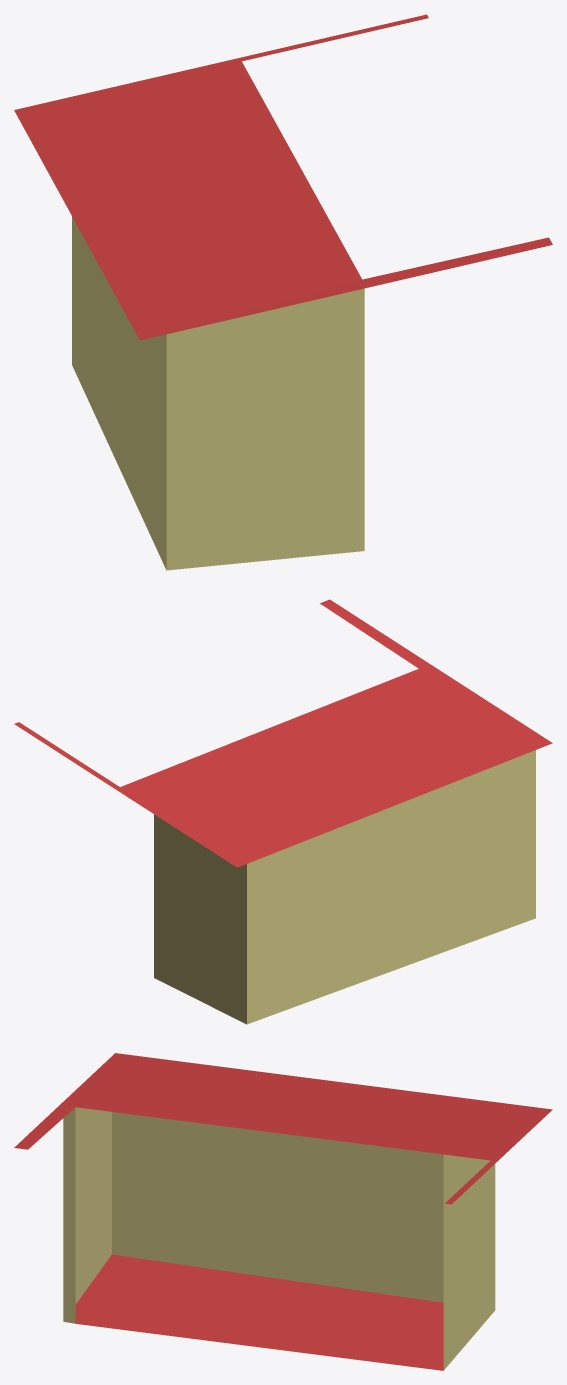
3 renders of one model, top to bottom at view 1: azimuth 30°, elevation 25°; view 2: azimuth 150°, elevation 25°; view 3: azimuth 270°, elevation 25°, orthographic. The views are drawn at different scales.
Size of the model in its own units: 10.32 by 11.95 by 5.8.
